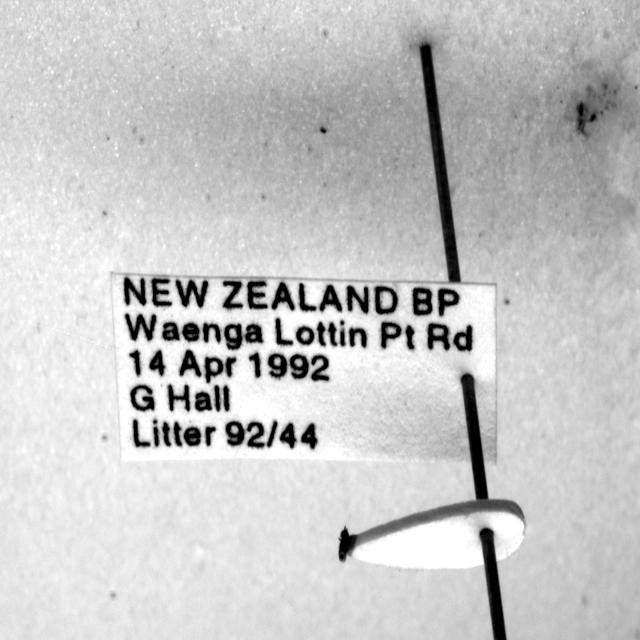typed_label: (111, 274, 496, 463)
